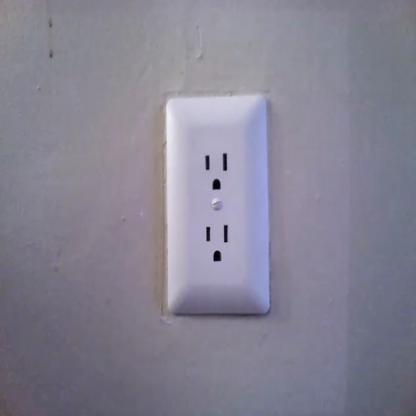OUTLET: (165, 96, 270, 314)
